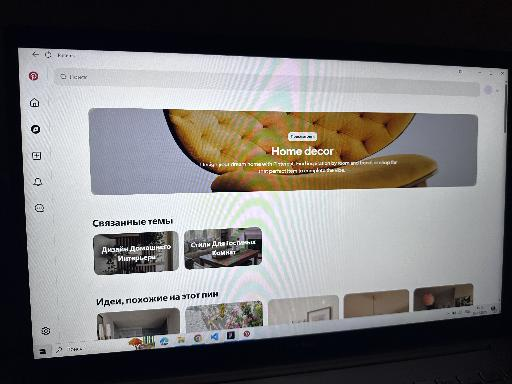pinterest: (25, 70, 505, 325)
